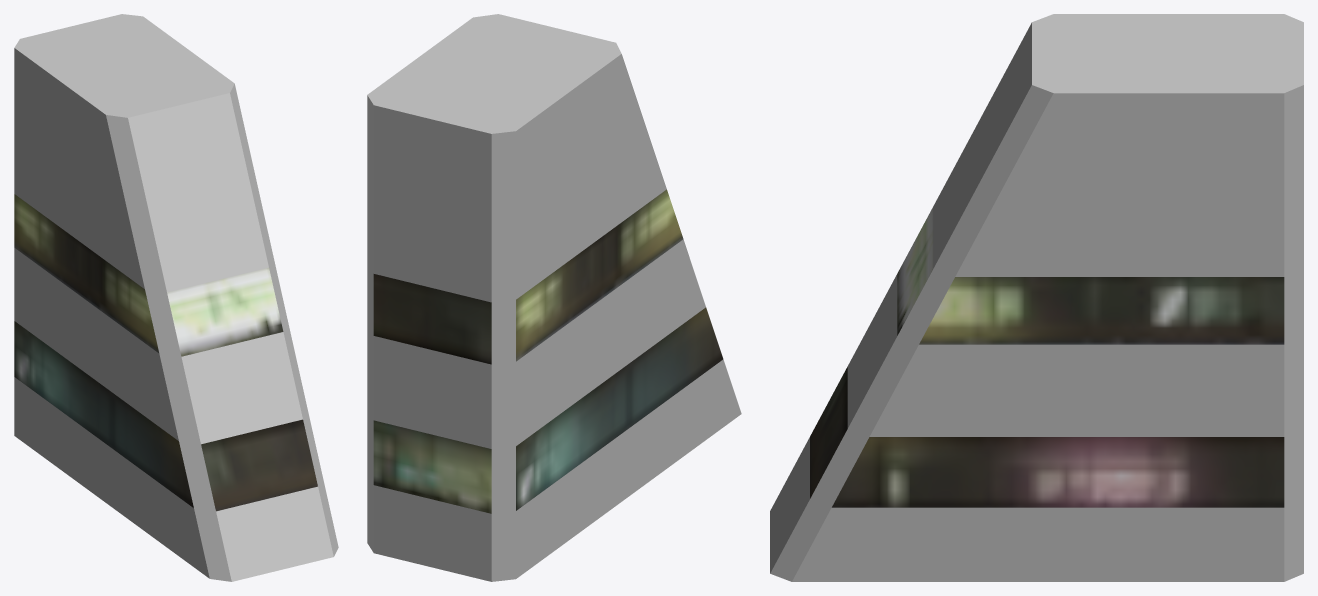
File: hirise_top43b.fbx
3 views of the same model, side by side, from view 1: azimuth 30°, elevation 25°; view 2: azimuth 150°, elevation 25°; view 3: azimuth 270°, elevation 25° (orthographic). The views are drawn at different scales.
Visible parts, largest first — view 1: hirise_top43b; view 2: hirise_top43b; view 3: hirise_top43b.
Part boxes in pixels (<box>): hirise_top43b: <box>14,14,338,581</box>; hirise_top43b: <box>367,14,741,581</box>; hirise_top43b: <box>770,14,1303,581</box>.
Size of the model in its own units: 4.38 by 12.61 by 12.48.
